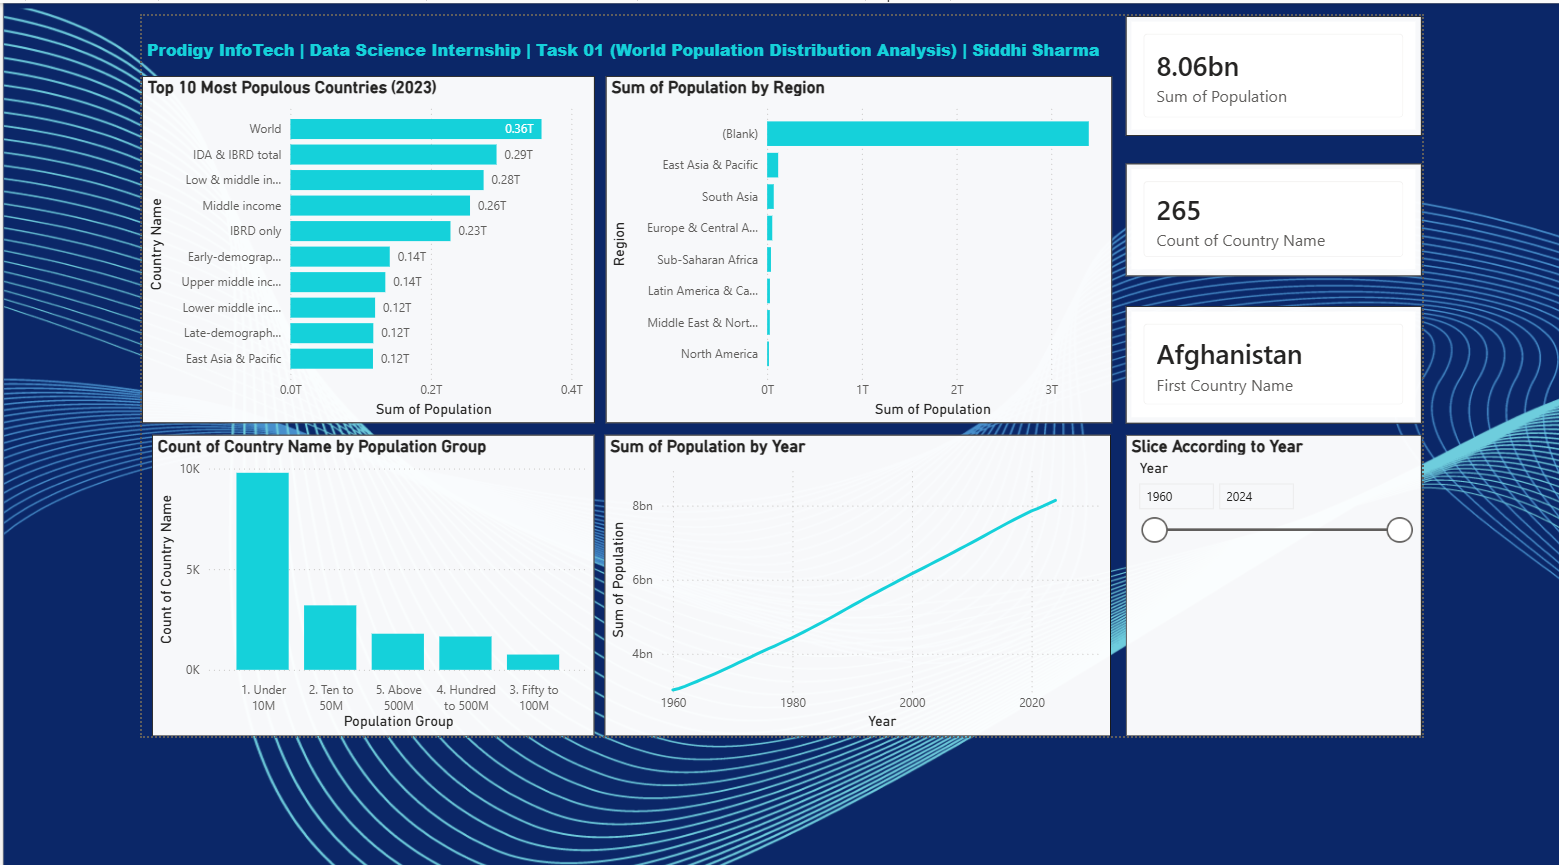

Layout of this report page (visuals, bound fields, positions):
{"tool":"powerbi","page":{"name":"Page 1","canvas":[1280,720],"ordinal":0},"visuals":[{"type":"clusteredBarChart","title":"Top 10 Most Populous Countries (2023)","fields":{"Category":["API_SP POP TOTL_DS2_en_csv_v2_259579 (3).Country Name"],"Y":["Sum(API_SP POP TOTL_DS2_en_csv_v2_259579 (3).Population)"]},"box":[0,60,452.5,347.5],"z":0},{"type":"clusteredColumnChart","fields":{"Y":["CountNonNull(API_SP POP TOTL_DS2_en_csv_v2_259579 (3).Country Name)"],"Category":["API_SP POP TOTL_DS2_en_csv_v2_259579 (3).Population Group"]},"box":[10,418.8,442.5,301.2],"z":1000},{"type":"lineChart","fields":{"Category":["API_SP POP TOTL_DS2_en_csv_v2_259579 (3).Year"],"Y":["Sum(API_SP POP TOTL_DS2_en_csv_v2_259579 (3).Population)"]},"box":[462.5,418.8,506.2,301.2],"z":2000},{"type":"barChart","fields":{"Category":["Metadata_Country_API_SP POP TOTL_DS2_en_csv_v2_259579.Region"],"Y":["Sum(API_SP POP TOTL_DS2_en_csv_v2_259579 (3).Population)"]},"box":[463.8,60,506.2,347.5],"z":3000},{"type":"cardVisual","fields":{"Data":["Sum(API_SP POP TOTL_DS2_en_csv_v2_259579 (3).Population)"]},"box":[983.8,0,296.2,120],"z":4000},{"type":"cardVisual","fields":{"Data":["Count(API_SP POP TOTL_DS2_en_csv_v2_259579 (3).Country Name)"]},"box":[983.8,147.5,296.2,112.5],"z":5000},{"type":"cardVisual","fields":{"Data":["Min(API_SP POP TOTL_DS2_en_csv_v2_259579 (3).Country Name)"]},"box":[983.8,290,296.2,117.5],"z":6000},{"type":"slicer","title":"Slice According to Year","fields":{"Values":["API_SP POP TOTL_DS2_en_csv_v2_259579 (3).Year"]},"box":[983.8,418.8,296.2,301.2],"z":7000},{"type":"textbox","box":[0,0,983.8,60],"z":8000}]}

Visuals, with their boxes in screenshot pixels (x1, y1, x2, y2), scaled from the page's 1280x720 canvas onto the 1559x865 screenshot:
"Top 10 Most Populous Countries (2023)" clusteredBarChart: locate(0, 72, 551, 490)
clusteredColumnChart - CountNonNull(API_SP POP TOTL_DS2_en_csv_v2_259579 (3).Country Name) x API_SP POP TOTL_DS2_en_csv_v2_259579 (3).Population Group: locate(12, 503, 551, 864)
lineChart - API_SP POP TOTL_DS2_en_csv_v2_259579 (3).Year x Sum(API_SP POP TOTL_DS2_en_csv_v2_259579 (3).Population): locate(563, 503, 1180, 864)
barChart - Metadata_Country_API_SP POP TOTL_DS2_en_csv_v2_259579.Region x Sum(API_SP POP TOTL_DS2_en_csv_v2_259579 (3).Population): locate(565, 72, 1181, 490)
cardVisual - Sum(API_SP POP TOTL_DS2_en_csv_v2_259579 (3).Population): locate(1198, 0, 1558, 144)
cardVisual - Count(API_SP POP TOTL_DS2_en_csv_v2_259579 (3).Country Name): locate(1198, 177, 1558, 312)
cardVisual - Min(API_SP POP TOTL_DS2_en_csv_v2_259579 (3).Country Name): locate(1198, 348, 1558, 490)
"Slice According to Year" slicer: locate(1198, 503, 1558, 864)
textbox: locate(0, 0, 1198, 72)
